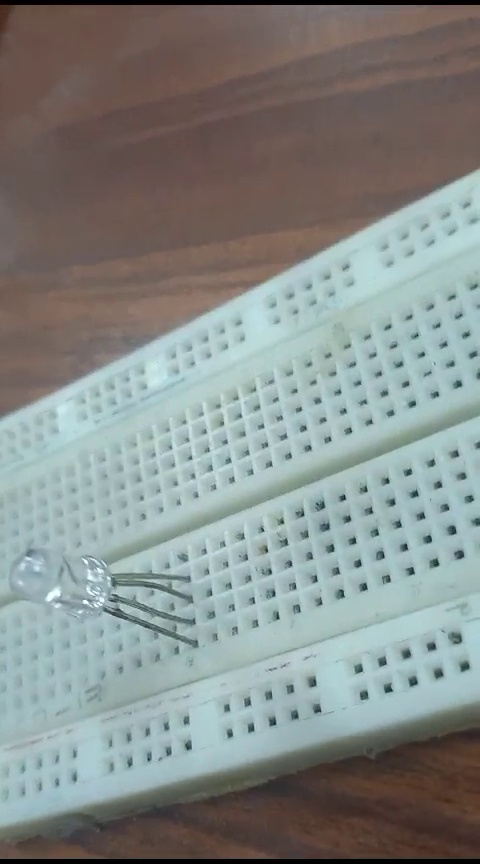LED: (14, 537, 200, 652)
